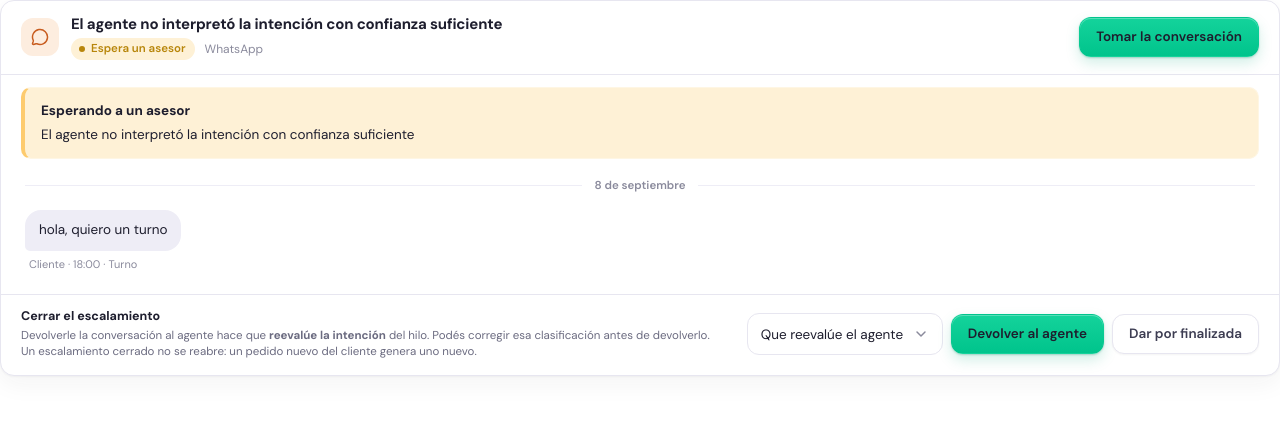
PAN-WA-01 — hilo › tomar el escalamiento recarga el hilo
The width and height of the screenshot is (1280, 425).
Click the button "Tomar la conversación" at (1169, 37), box [1079,17,1259,57]
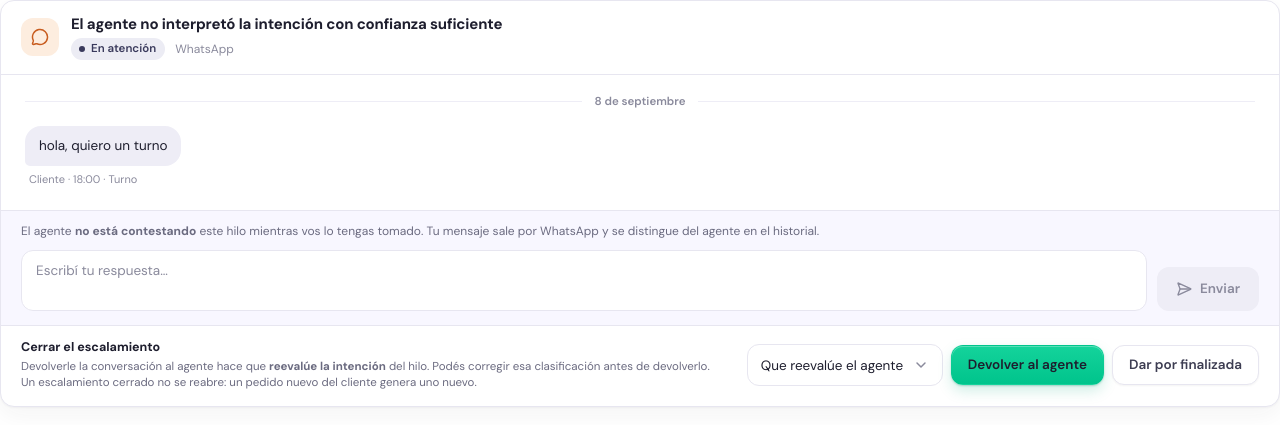
expect the text box named "Mensaje" is shown: met, box [21,250,1147,311]
